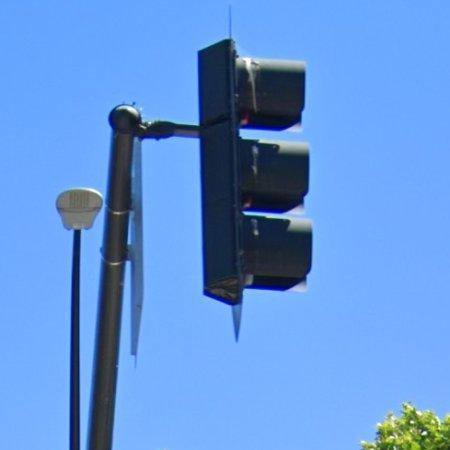traffic lights: (198, 39, 313, 306)
